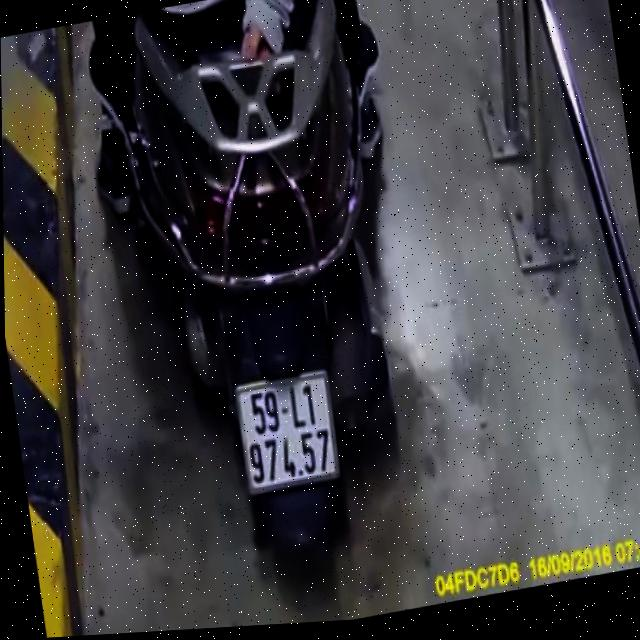motorcycle: (111, 0, 439, 600)
plate: (227, 362, 344, 496)
